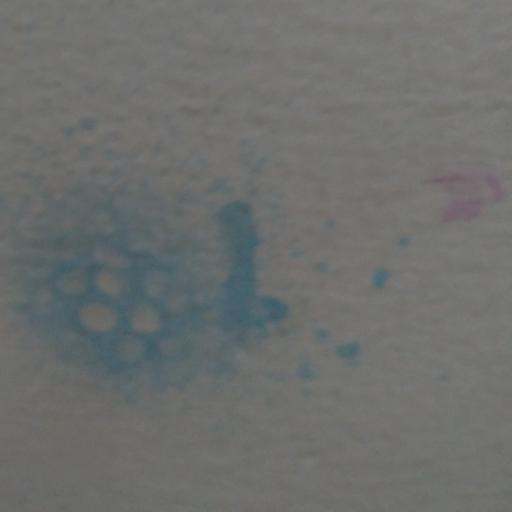stain: (5, 145, 512, 383)
